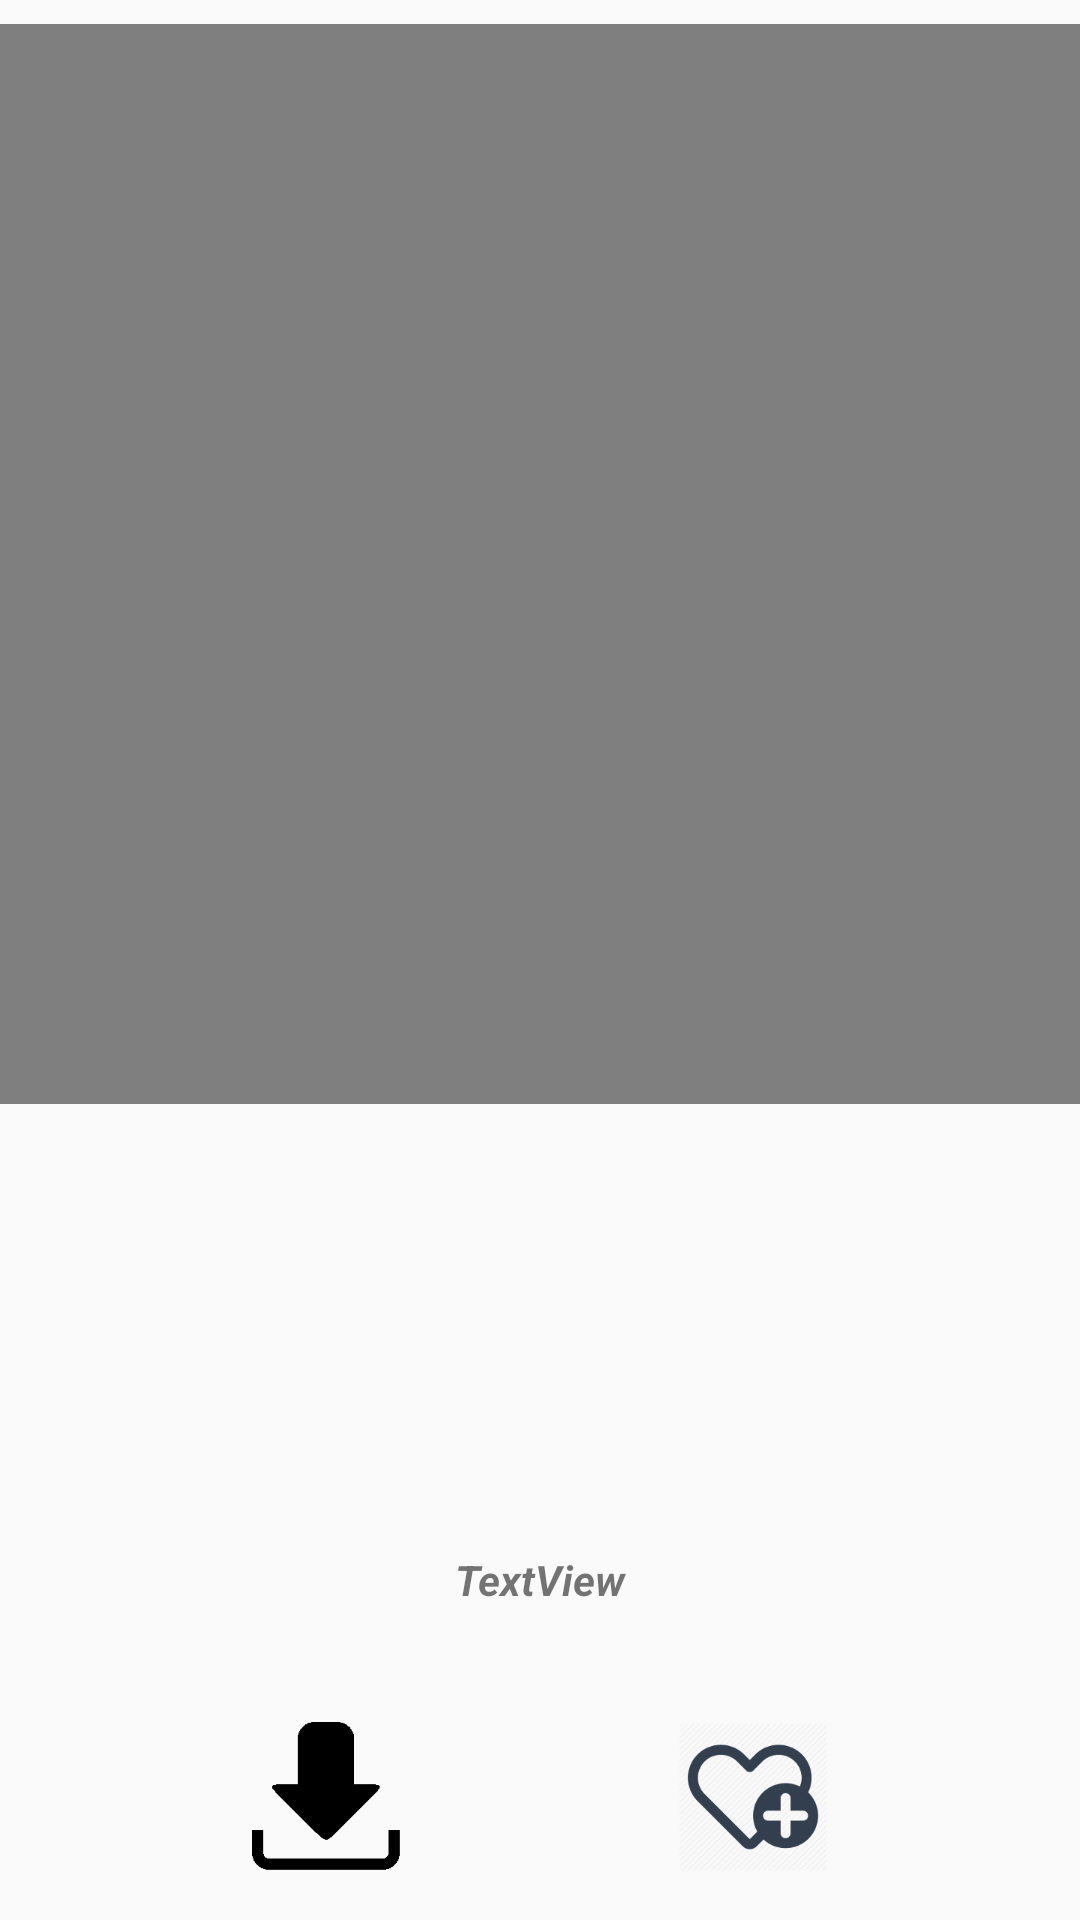

Screen size 1080*1920. Icon name, then its center in pixels as (x,y):
download: (326,1796)
